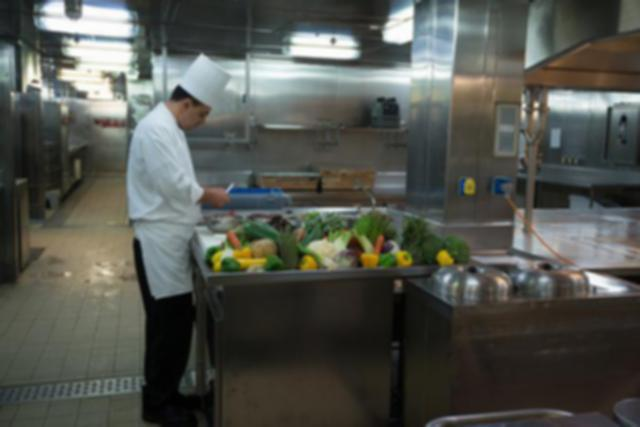Lavaplatos: (318, 177, 402, 217)
